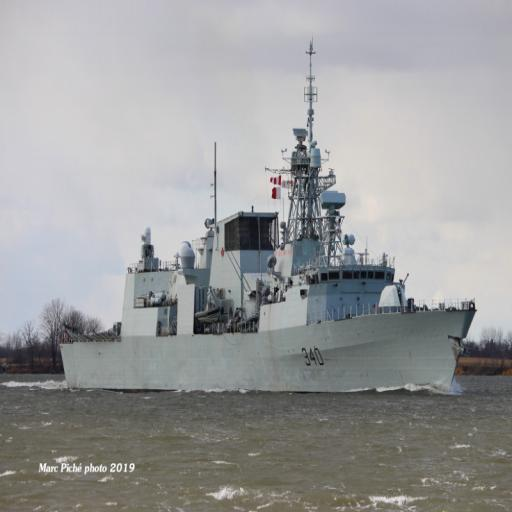Fragata: (59, 35, 479, 395)
